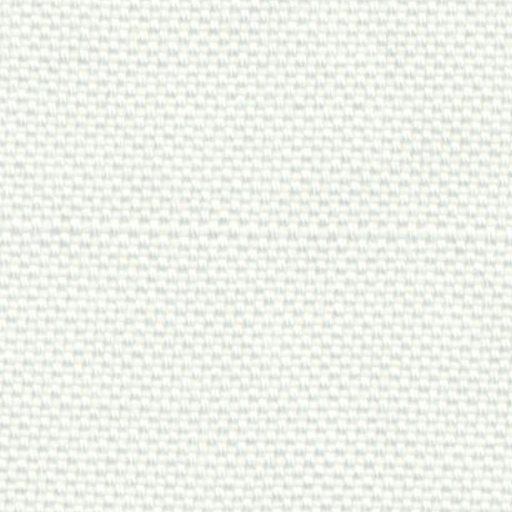TuoSha: (24, 195, 492, 283)
